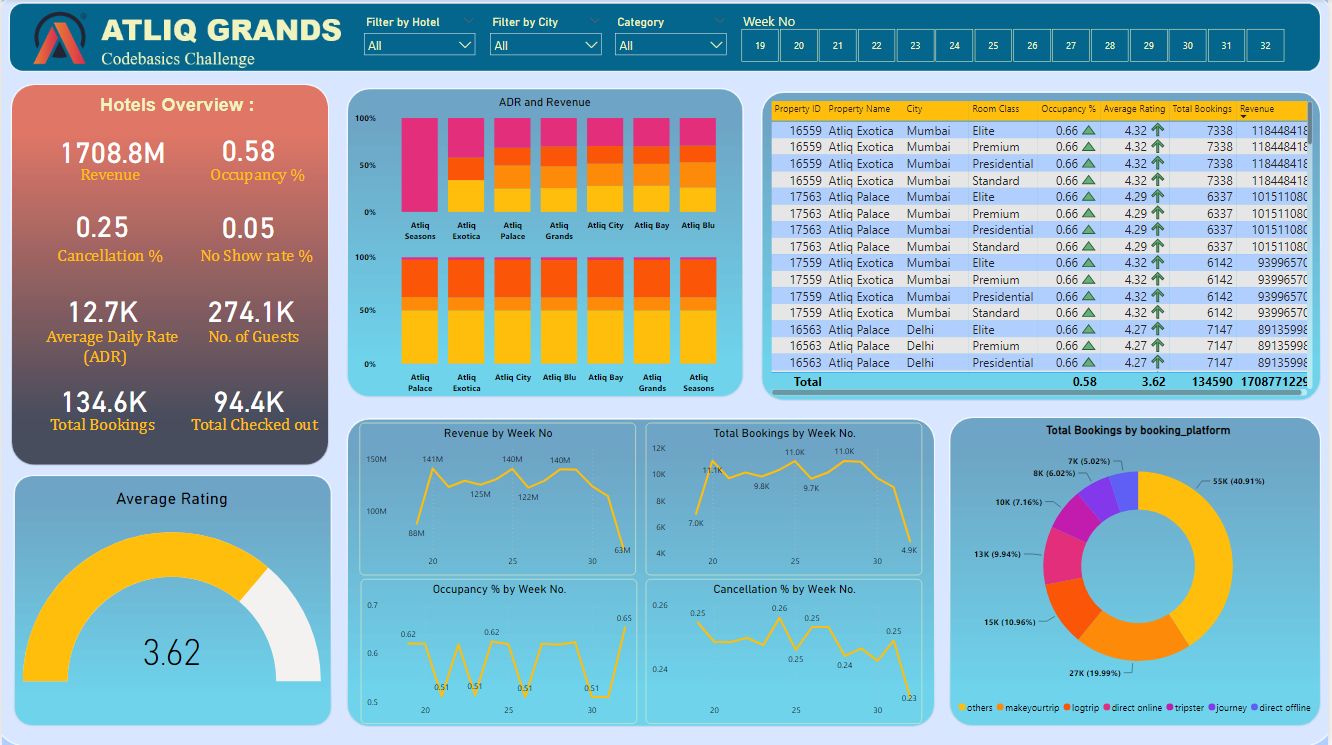

What the dashboard file says about the page in this screenshot:
{"tool":"powerbi","page":{"name":"Page 1","canvas":[1920,1080],"ordinal":0},"visuals":[{"type":"cardVisual","fields":{"Data":["fact_bookings.ADR"]},"box":[45.2,403.4,200.8,79.6],"z":0},{"type":"hundredPercentStackedColumnChart","title":"ADR and Revenue","fields":{"Category":["dim_hotels.property_name"],"Y":["fact_bookings.ADR"],"Series":["dim_hotels.city"]},"box":[505.5,140,561.8,220],"z":1000},{"type":"cardVisual","fields":{"Data":["fact_bookings.Revenue"]},"box":[59.7,170.1,200.8,79.6],"z":2000},{"type":"lineChart","title":"Revenue by Week No","fields":{"Y":["fact_bookings.Revenue"],"Category":["fact_bookings.Weekno"]},"box":[517.4,613.3,399.8,220.7],"z":3000},{"type":"lineChart","title":"Total Bookings by Week No.","fields":{"Y":["fact_bookings.Total Bookings"],"Category":["fact_bookings.Weekno"]},"box":[931.7,613.3,399.8,220.7],"z":4000},{"type":"lineChart","title":"Cancellation % by Week No.","fields":{"Y":["fact_bookings.Cancellation %"],"Category":["fact_bookings.Weekno"]},"box":[931.7,839.4,399.8,209.8],"z":5000},{"type":"donutChart","fields":{"Y":["fact_bookings.Total Bookings"],"Category":["fact_bookings.booking_platform"]},"box":[1387.5,613.3,531.9,430.6],"z":6000},{"type":"slicer","fields":{"Values":["dim_hotels.property_name"]},"box":[531.9,18.1,186.3,79.6],"z":7000},{"type":"slicer","fields":{"Values":["dim_date.wn"]},"box":[1042,36.2,835.8,61.5],"z":8000},{"type":"lineChart","title":"Occupancy % by Week No.","fields":{"Y":["fact_bookings.Occupancy %"],"Category":["fact_aggregated_bookings.wn"]},"box":[517.4,839.4,399.8,209.8],"z":9000},{"type":"slicer","fields":{"Values":["dim_hotels.city"]},"box":[718.2,18.1,171.9,79.6],"z":10000},{"type":"tableEx","fields":{"Values":["dim_hotels.property_id","dim_hotels.property_name","dim_hotels.city","dim_hotels.category","fact_bookings.Revenue","fact_bookings.Occupancy %","fact_bookings.Average Rating","fact_aggregated_bookings.Total Succesful Bookings"]},"box":[1105.3,142.9,796,436],"z":11000},{"type":"hundredPercentStackedColumnChart","fields":{"Category":["dim_hotels.property_name"],"Y":["fact_bookings.Total Bookings","fact_bookings.Total cancelled bookings","fact_bookings.Total Checked Out","fact_bookings.Total no show bookings"]},"box":[504.7,360,562.6,218.9],"z":12000},{"type":"cardVisual","fields":{"Data":["fact_bookings.Occupancy %"]},"box":[256.9,170.1,200.8,79.6],"z":13000},{"type":"cardVisual","fields":{"Data":["fact_bookings.Total Bookings"]},"box":[47,533.7,200.8,79.6],"z":14000},{"type":"cardVisual","fields":{"Data":["fact_bookings.No Show rate %"]},"box":[256.9,282.2,200.8,79.6],"z":15000},{"type":"cardVisual","fields":{"Data":["Sum(fact_bookings.no_guests)"]},"box":[260.5,403.4,200.8,79.6],"z":16000},{"type":"cardVisual","fields":{"Data":["fact_bookings.Total Checked Out"]},"box":[256.9,533.7,200.8,79.6],"z":17000},{"type":"cardVisual","fields":{"Data":["fact_bookings.Cancellation %"]},"box":[45.2,280.4,200.8,79.6],"z":18000},{"type":"gauge","fields":{"Y":["fact_bookings.Average Rating"]},"box":[25.3,709.1,441.4,318.4],"z":19000},{"type":"textbox","box":[27.1,132.1,441.4,544.5],"z":20000},{"type":"textbox","box":[1067.3,14.5,110.4,41.6],"z":21000},{"type":"slicer","fields":{"Values":["dim_hotels.category"]},"box":[890.1,18.1,164.6,79.6],"z":22000}]}

Visuals, with their boxes in screenshot pixels (x1, y1, x2, y2), scaled from the page's 1920x1080 canvas onto the 1332x745 screenshot:
cardVisual - fact_bookings.ADR: <box>31,278,171,333</box>
"ADR and Revenue" hundredPercentStackedColumnChart: <box>351,97,740,248</box>
cardVisual - fact_bookings.Revenue: <box>41,117,181,172</box>
"Revenue by Week No" lineChart: <box>359,423,636,575</box>
"Total Bookings by Week No." lineChart: <box>646,423,924,575</box>
"Cancellation % by Week No." lineChart: <box>646,579,924,724</box>
donutChart - fact_bookings.Total Bookings x fact_bookings.booking_platform: <box>963,423,1331,720</box>
slicer - dim_hotels.property_name: <box>369,12,498,67</box>
slicer - dim_date.wn: <box>723,25,1303,67</box>
"Occupancy % by Week No." lineChart: <box>359,579,636,724</box>
slicer - dim_hotels.city: <box>498,12,618,67</box>
tableEx - dim_hotels.property_id x dim_hotels.property_name: <box>767,99,1319,399</box>
hundredPercentStackedColumnChart - dim_hotels.property_name x fact_bookings.Total Bookings: <box>350,248,740,399</box>
cardVisual - fact_bookings.Occupancy %: <box>178,117,318,172</box>
cardVisual - fact_bookings.Total Bookings: <box>33,368,172,423</box>
cardVisual - fact_bookings.No Show rate %: <box>178,195,318,250</box>
cardVisual - Sum(fact_bookings.no_guests): <box>181,278,320,333</box>
cardVisual - fact_bookings.Total Checked Out: <box>178,368,318,423</box>
cardVisual - fact_bookings.Cancellation %: <box>31,193,171,248</box>
gauge - fact_bookings.Average Rating: <box>18,489,324,709</box>
textbox: <box>19,91,325,467</box>
textbox: <box>740,10,817,39</box>
slicer - dim_hotels.category: <box>618,12,732,67</box>
